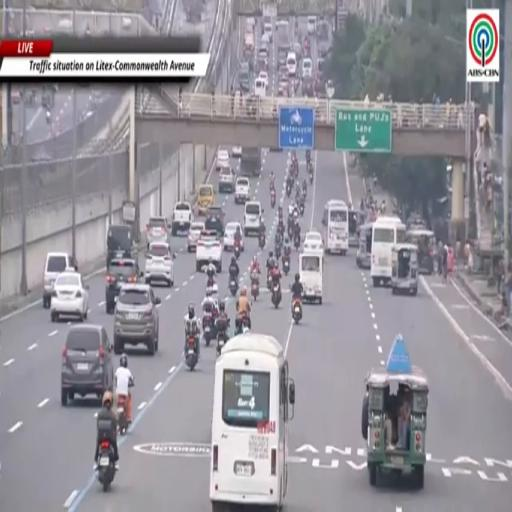bus: (210, 332, 294, 511), (370, 216, 406, 286), (322, 199, 349, 255)
car: (61, 325, 113, 406), (114, 283, 160, 355), (51, 268, 88, 322), (105, 259, 140, 314), (43, 252, 75, 309), (144, 243, 175, 286), (107, 224, 137, 266), (197, 230, 223, 273), (171, 202, 193, 236), (244, 201, 263, 235), (147, 217, 169, 246), (224, 221, 244, 250), (205, 206, 224, 235), (187, 221, 204, 253), (198, 184, 214, 215), (218, 166, 235, 194), (303, 231, 323, 253), (235, 178, 250, 203), (216, 150, 229, 171), (302, 58, 312, 78), (307, 16, 316, 35), (264, 23, 273, 42), (259, 71, 268, 88), (259, 41, 269, 56), (276, 18, 288, 30), (232, 146, 241, 157), (261, 34, 270, 43)
jeepney: (362, 335, 428, 488), (406, 227, 435, 275), (391, 244, 418, 295), (356, 223, 372, 269), (349, 210, 365, 247)
motorcycle: (97, 440, 115, 491), (117, 395, 130, 435), (217, 319, 229, 357), (186, 334, 197, 371), (203, 313, 215, 346), (292, 299, 302, 324), (236, 314, 248, 334), (272, 283, 281, 308), (251, 276, 259, 300), (229, 277, 238, 296), (283, 255, 290, 275), (274, 243, 282, 260), (277, 218, 284, 236), (234, 243, 241, 260), (259, 232, 265, 249), (294, 235, 300, 250), (271, 189, 275, 209), (267, 272, 271, 291), (294, 160, 298, 179), (299, 202, 304, 216), (288, 224, 293, 237), (295, 190, 300, 203), (286, 185, 291, 198), (207, 278, 214, 287), (270, 179, 275, 191), (310, 169, 313, 184)
truck: (240, 148, 261, 177)
